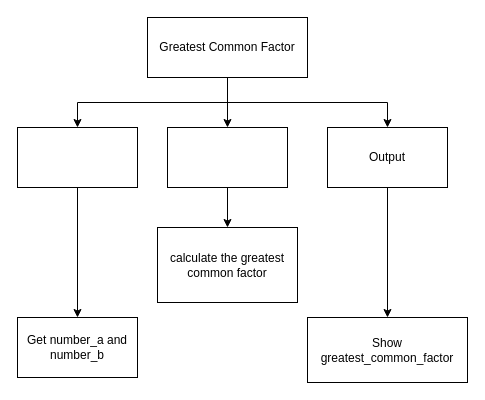
Some shapes in this 485 by 400 pixel diagram are drawn without their labels. Here are the shapes that lost their labels. From the top down, the centre of each, then its label:
the point at 77,157: Input
the point at 227,157: Process
